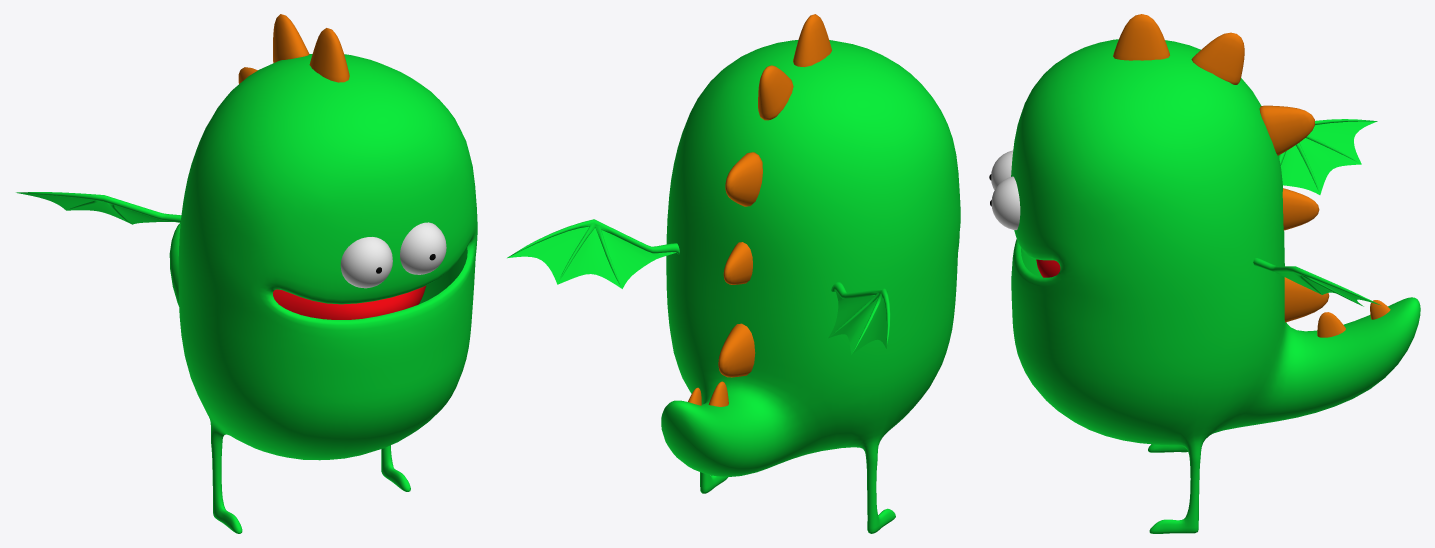
The model's file is monster-cinderling.glb.
The picture shows the model from 3 angles, left to right: view 1: azimuth 30°, elevation 25°; view 2: azimuth 150°, elevation 25°; view 3: azimuth 270°, elevation 25°; orthographic projection.
Parts seen in each view (by area): view 1: Retopo_GEO-head_open.003, Retopo_tongue.003, wings.003, Sphere.005-EYE 1.L.010, Sphere.005-EYE 1.L.009, Cube.014, Cube.013; view 2: Retopo_GEO-head_open.003, wings.003, Cube.010, Cube.012, Cube.013, Cube.014, Cube.011; view 3: Retopo_GEO-head_open.003, wings.003, Cube.014, Cube.012, Cube.013, Cube.010, Sphere.005-EYE 1.L.009, Cube.011, Cube.009, Sphere.005-EYE 1.L.010.
Part boxes in pixels (x1,y1,x2,y2): Retopo_GEO-head_open.003: (169,54,477,533); Retopo_tongue.003: (273,285,426,319); wings.003: (16,192,181,224); Sphere.005-EYE 1.L.010: (340,237,392,288); Sphere.005-EYE 1.L.009: (400,222,446,274); Cube.014: (309,28,349,82); Cube.013: (273,14,309,63); Retopo_GEO-head_open.003: (661,40,960,533); wings.003: (507,219,890,354); Cube.010: (718,323,755,377); Cube.012: (725,152,762,206); Cube.013: (758,65,793,120); Cube.014: (793,14,831,67); Cube.011: (723,242,752,284); Retopo_GEO-head_open.003: (1011,39,1420,533); wings.003: (1253,119,1380,306); Cube.014: (1113,14,1169,60); Cube.012: (1259,105,1314,155); Cube.013: (1191,32,1244,84); Cube.010: (1284,277,1329,322); Sphere.005-EYE 1.L.009: (991,176,1020,229); Cube.011: (1282,188,1319,230); Cube.009: (1317,312,1345,337); Sphere.005-EYE 1.L.010: (991,150,1013,190).
Size of the model in its own units: 0.6291 by 0.7621 by 0.6215.
